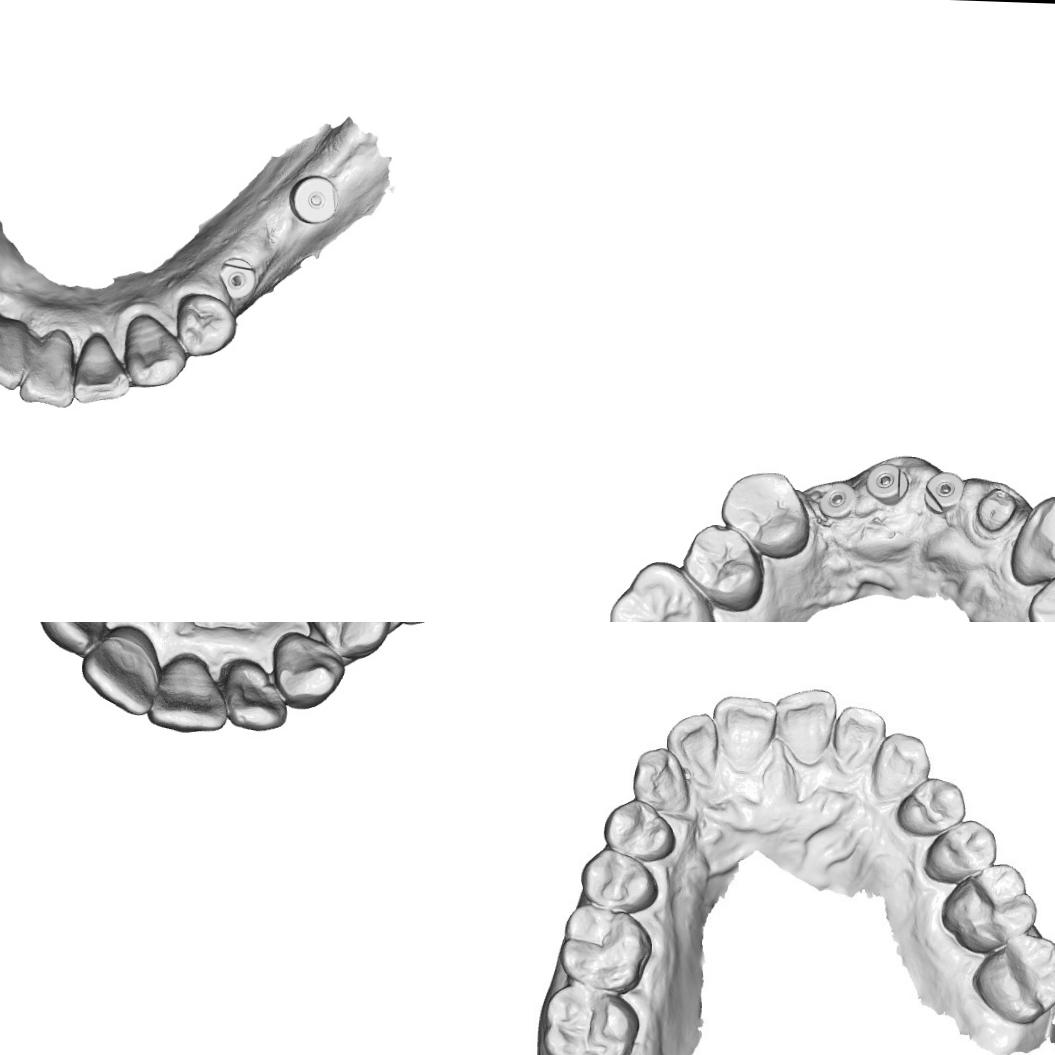canine: (272, 630, 343, 712), (122, 312, 188, 392), (1007, 491, 1055, 588), (870, 729, 933, 801), (632, 744, 689, 812)
crown: (970, 484, 1022, 536)
implant: (288, 172, 340, 227), (860, 460, 916, 510), (924, 468, 967, 511), (219, 256, 258, 300), (818, 480, 854, 516)
incisor: (77, 630, 165, 718), (154, 651, 232, 735), (15, 328, 80, 410), (224, 656, 290, 732), (712, 694, 776, 771), (778, 688, 840, 767), (70, 332, 133, 406), (832, 708, 883, 780), (668, 713, 720, 783), (36, 622, 108, 660), (0, 322, 27, 389)
molar: (940, 860, 1036, 956), (560, 904, 652, 992), (972, 931, 1055, 1025), (604, 558, 723, 622), (543, 988, 641, 1055)
premolar: (717, 468, 811, 561), (681, 522, 769, 613), (574, 846, 658, 912), (602, 796, 678, 864), (922, 822, 996, 886), (173, 291, 240, 359), (895, 776, 968, 838), (302, 622, 395, 659), (1023, 570, 1055, 622)
